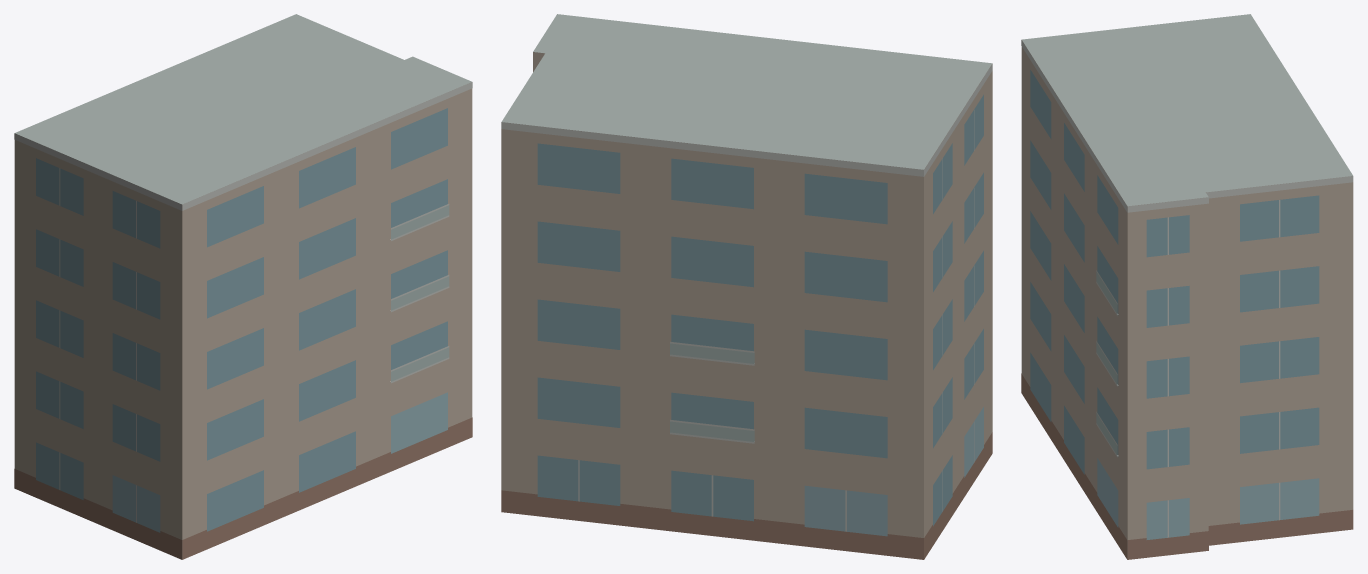
File: survey-upis-32971406.glb
The picture shows the model from 3 angles, left to right: view 1: azimuth 30°, elevation 25°; view 2: azimuth 150°, elevation 25°; view 3: azimuth 270°, elevation 25°; orthographic projection. The views are drawn at different scales.
Visible parts, largest first — view 1: survey-upis-32971406.tmp; view 2: survey-upis-32971406.tmp; view 3: survey-upis-32971406.tmp.
Boxes of the visible parts, left/top/right/bottom form: survey-upis-32971406.tmp: left=14, top=14, right=472, bottom=559; survey-upis-32971406.tmp: left=501, top=14, right=992, bottom=559; survey-upis-32971406.tmp: left=1021, top=14, right=1353, bottom=559.
Size of the model in its own units: 15.7 by 13.45 by 11.45.
